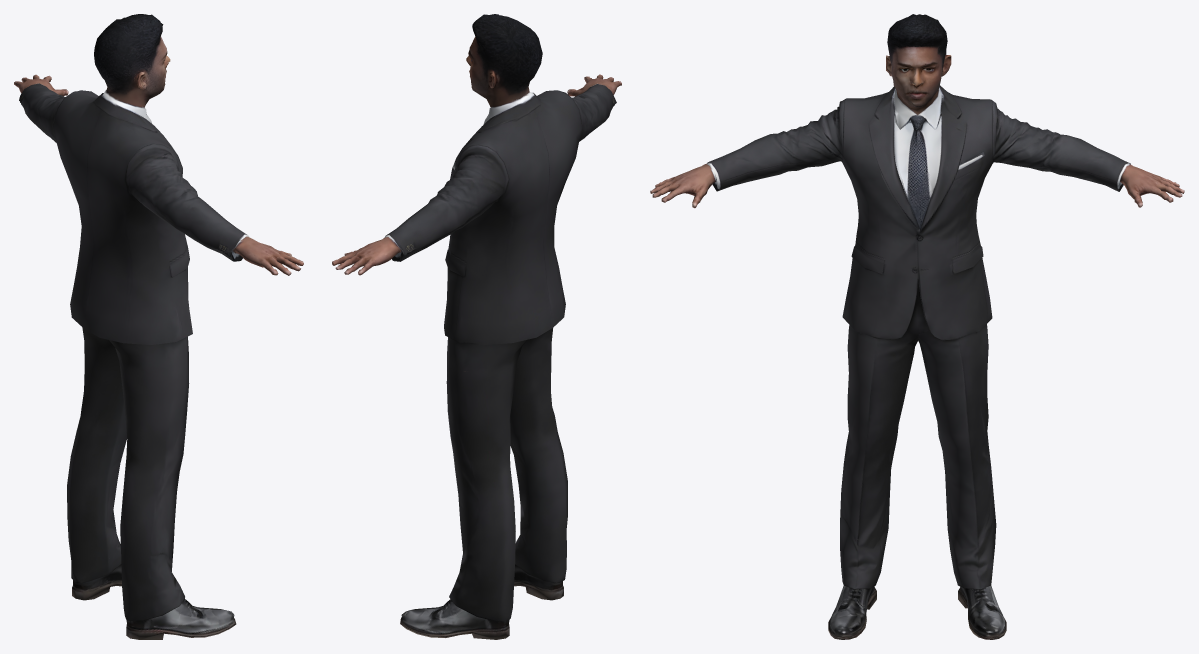
File: hotel_guest_suit.glb
3 views of the same model, side by side, from view 1: azimuth 30°, elevation 25°; view 2: azimuth 150°, elevation 25°; view 3: azimuth 270°, elevation 25° (orthographic).
Visible parts, largest first — view 1: tripo_node_ca415e53-d414-46ed-a6fb-575535e2866f; view 2: tripo_node_ca415e53-d414-46ed-a6fb-575535e2866f; view 3: tripo_node_ca415e53-d414-46ed-a6fb-575535e2866f.
Boxes of the visible parts, x1,y1,x2,y2 form: tripo_node_ca415e53-d414-46ed-a6fb-575535e2866f: (14, 14, 303, 639); tripo_node_ca415e53-d414-46ed-a6fb-575535e2866f: (332, 14, 621, 639); tripo_node_ca415e53-d414-46ed-a6fb-575535e2866f: (650, 14, 1184, 639).
Size of the model in its own units: 0.2012 by 0.998 by 0.8145.
Materials: 1 (1 with a texture image).
